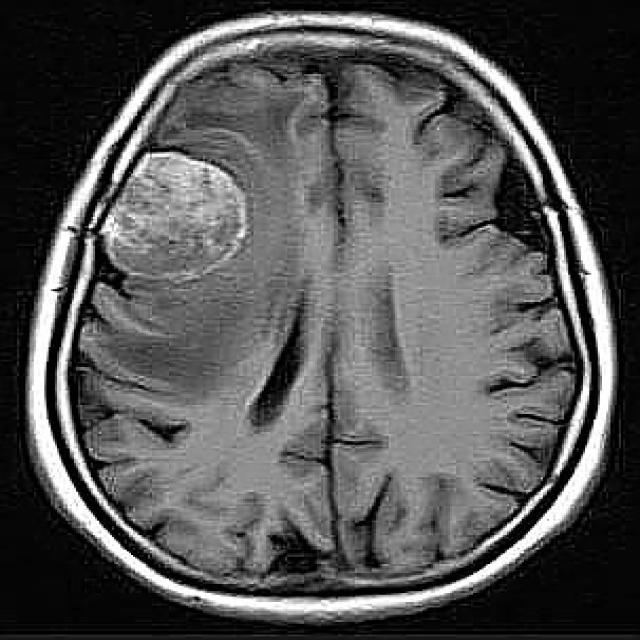Tumor-Cell: (95, 149, 258, 299)
